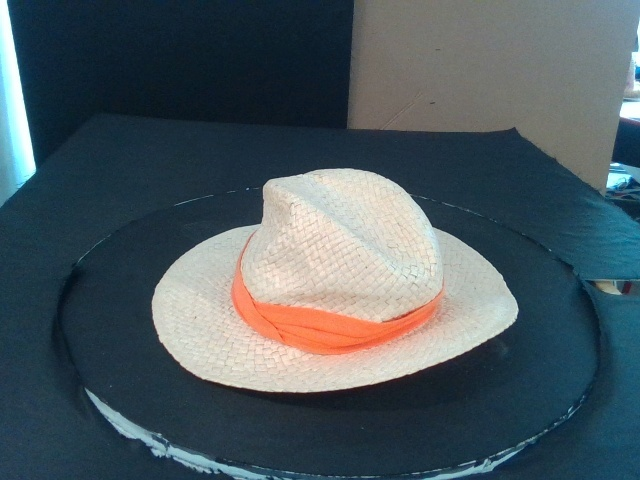hat: (151, 168, 519, 394)
